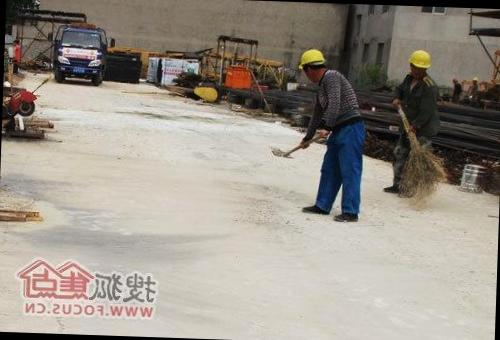helmet: (404, 51, 434, 70), (296, 48, 324, 68)
no_vest: (312, 72, 353, 122), (396, 75, 431, 119)
person: (284, 44, 372, 225), (384, 46, 442, 198)
